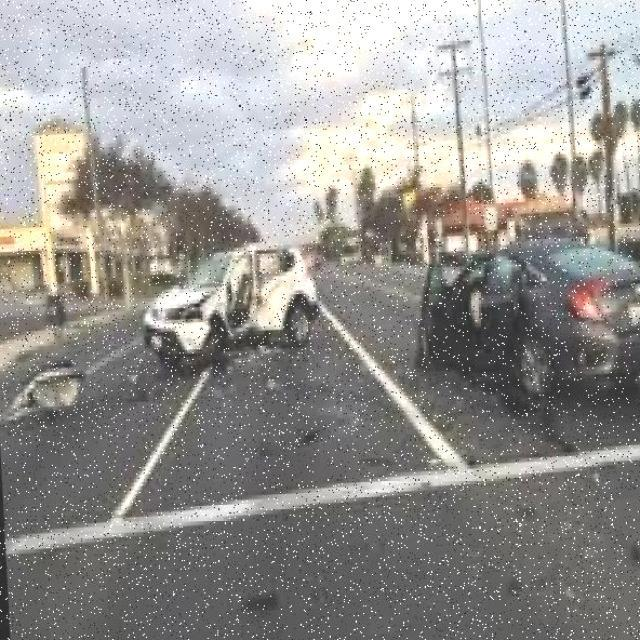accident: (395, 197, 640, 426), (131, 216, 341, 379)
